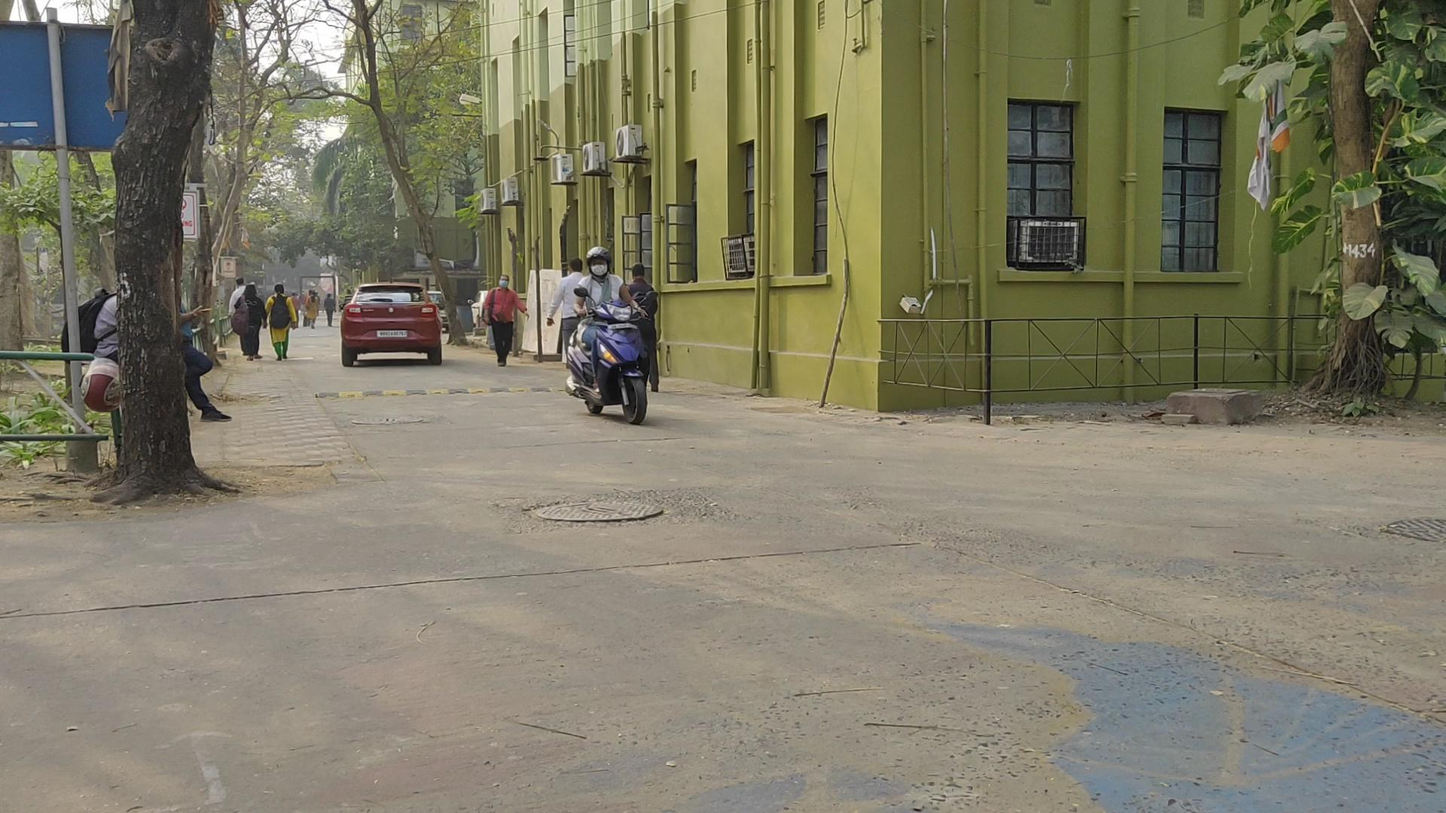bike: (564, 246, 658, 424)
car: (340, 282, 444, 367)
